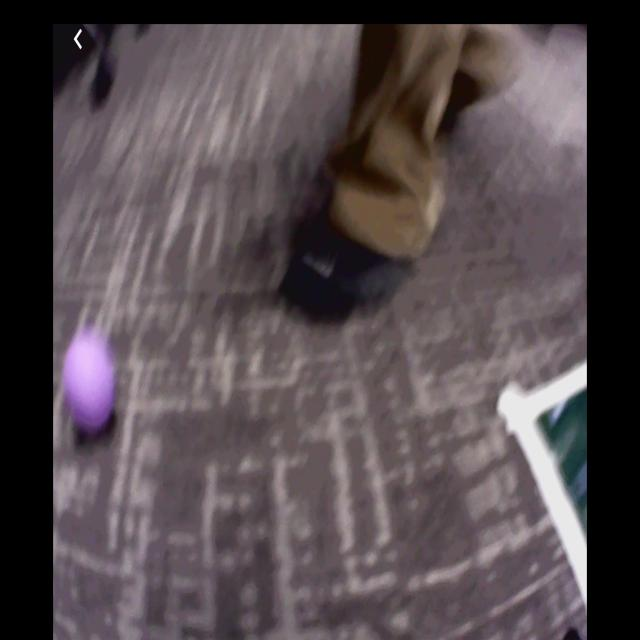ball: (64, 342, 119, 433)
